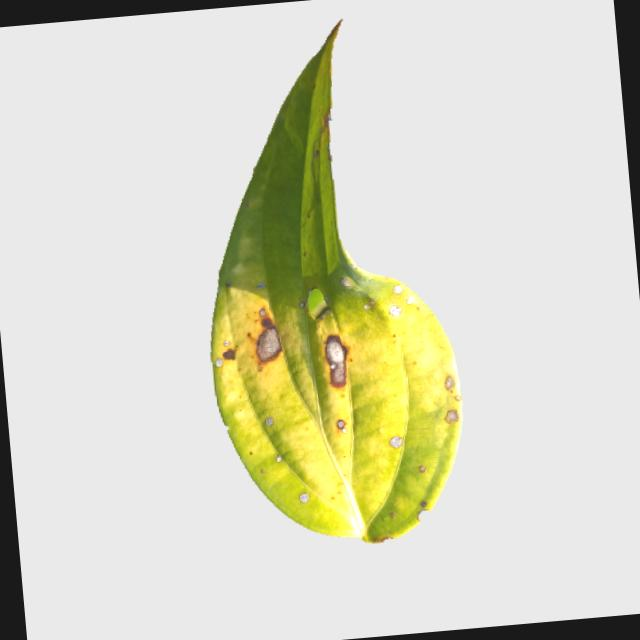leaf-blight: (177, 5, 500, 552)
